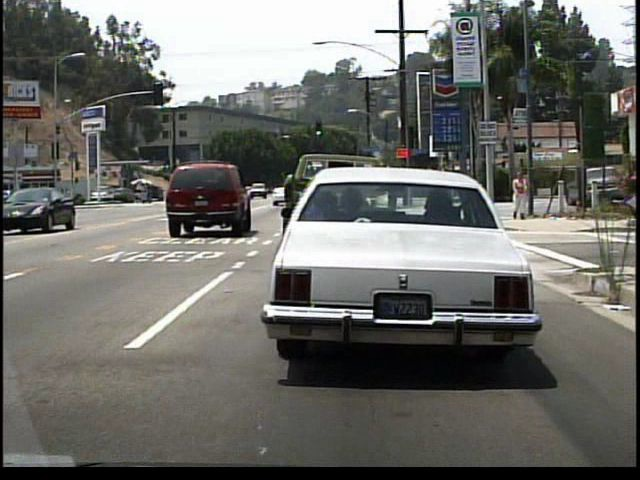person: (511, 170, 531, 223)
